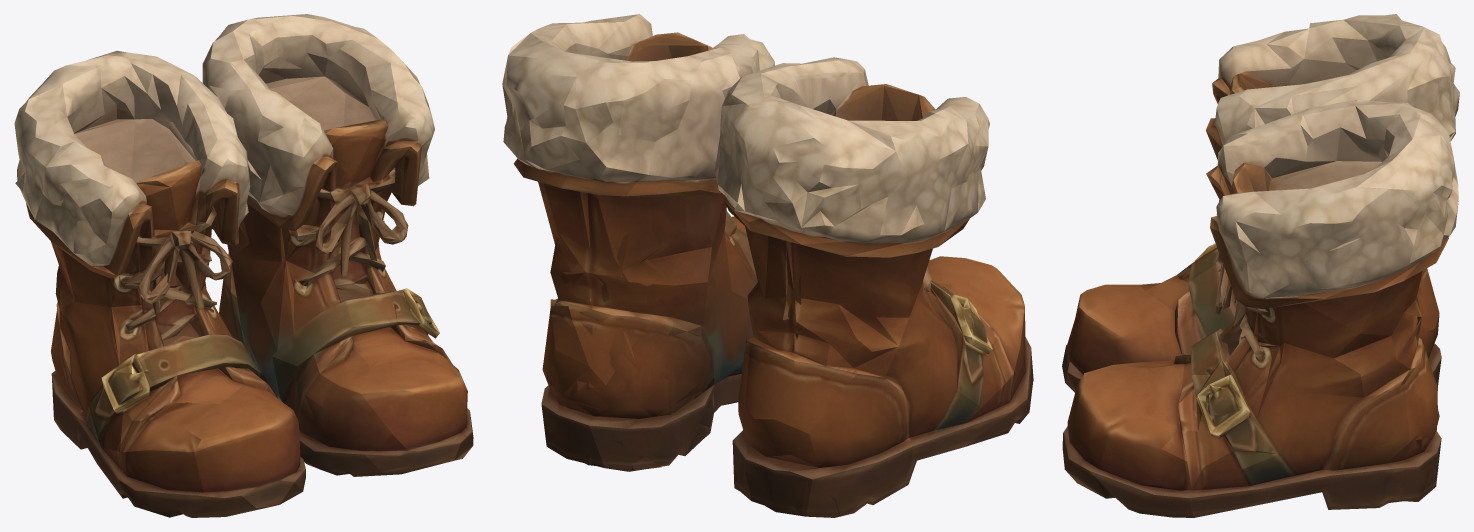
The model's file is insulated_boots.glb.
3 renders of one model, left to right at view 1: azimuth 30°, elevation 25°; view 2: azimuth 150°, elevation 25°; view 3: azimuth 270°, elevation 25°, orthographic. The views are drawn at different scales.
Parts seen in each view (by area): view 1: Mesh_0; view 2: Mesh_0; view 3: Mesh_0.
Boxes of the visible parts, x1,y1,x2,y2 form: Mesh_0: (14, 14, 473, 517); Mesh_0: (502, 14, 1033, 517); Mesh_0: (1062, 14, 1459, 517).
Size of the model in its own units: 0.3958 by 0.35 by 0.3513.
Materials: 1 (1 with a texture image).
